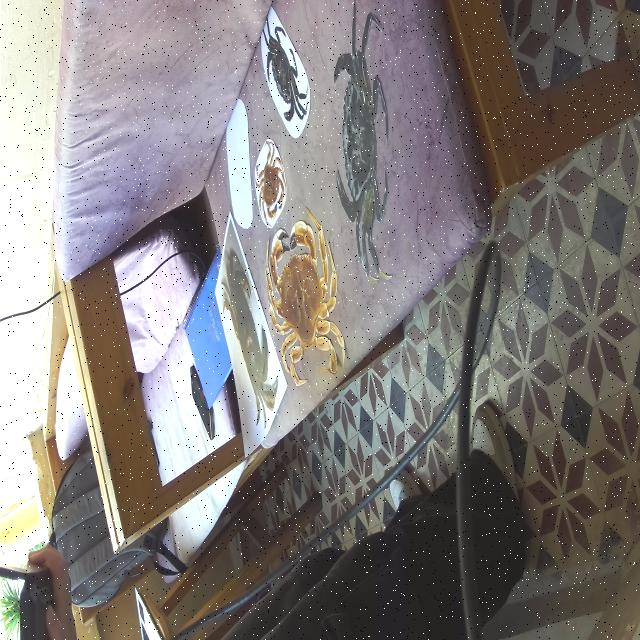European_Green_Crab: (332, 0, 393, 287), (247, 4, 317, 135)
